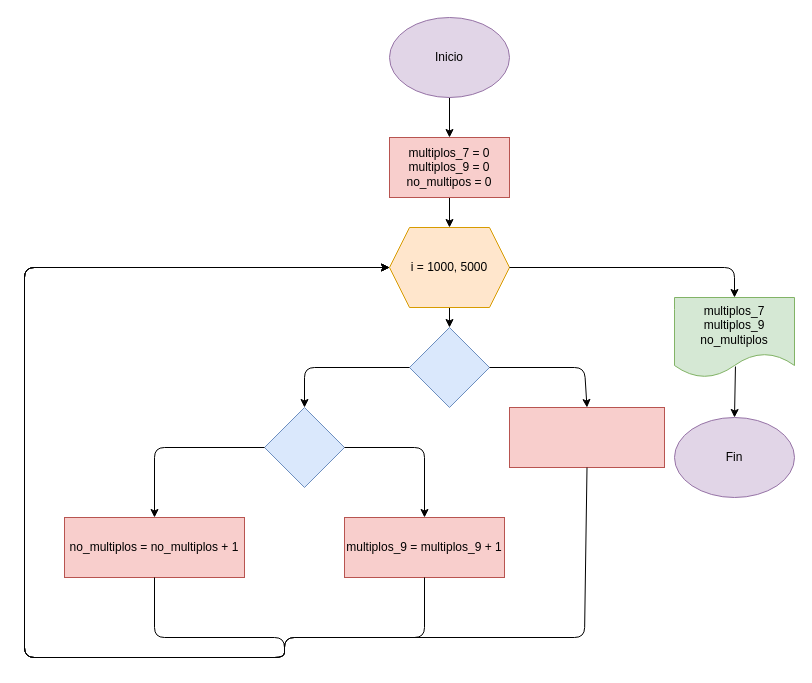
Some shapes in this 812 by 683 pixel diagram are drawn without their labels. The centre of each missing label's shape, as x and y in pixels:
i % 7 == 0: (449,367)
i % 9 == 0: (304,447)
multiplos_7 = multiplo_7 + 1: (586,437)
